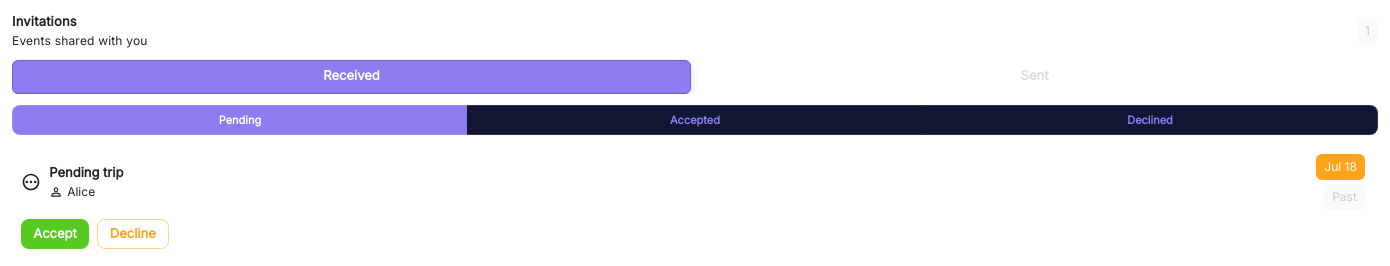
InvitationPanel - Received tab status filter › WhenReceivedInvitationIsAccepted_ShowsItOnTheAcceptedTab
Click the button "Accepted" at (695, 120), box [467, 105, 923, 135]
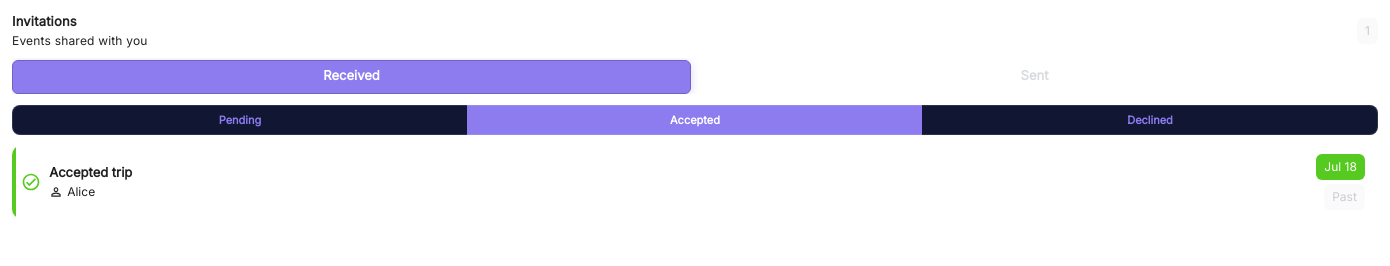
Check: the text "Accepted trip" is shown, box [49, 164, 132, 180]
Check: the button "Pending trip" is gone
